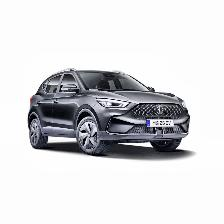EV: (28, 69, 193, 154)
